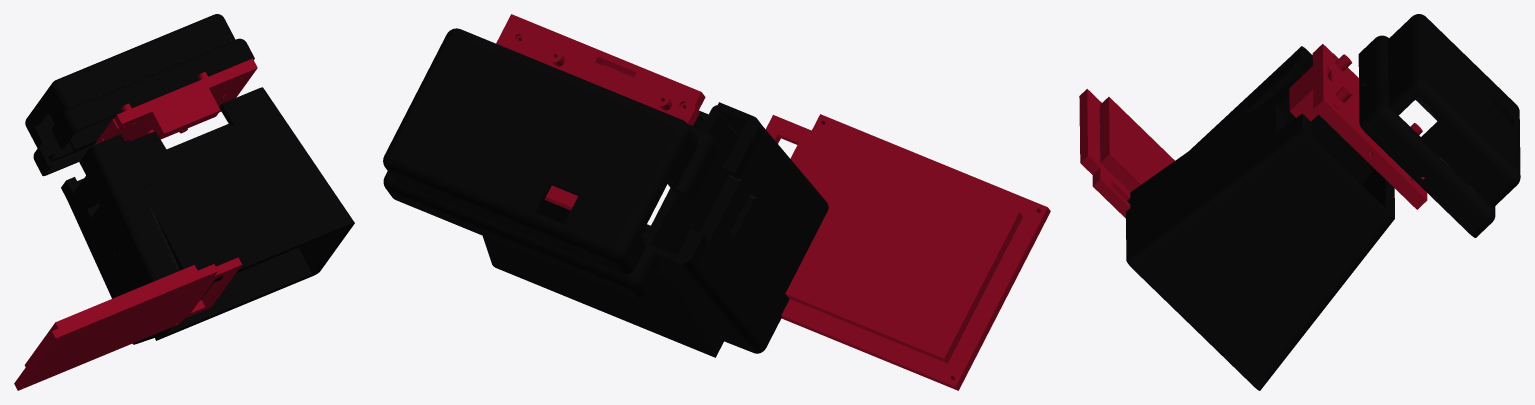
File: Grain-detector-assembly-view2.glb
3 renders of one model, left to right at view 1: azimuth 30°, elevation 25°; view 2: azimuth 150°, elevation 25°; view 3: azimuth 270°, elevation 25°, orthographic. The views are drawn at different scales.
Visible parts, largest first — view 1: node_id3, node_id41, node_id64, node_id48; view 2: node_id41, node_id64, node_id3, node_id48; view 3: node_id3, node_id41, node_id64, node_id48.
Part boxes in pixels (left/top/right/bottom): node_id3: left=61, top=87, right=354, bottom=344; node_id41: left=25, top=14, right=254, bottom=176; node_id64: left=14, top=257, right=241, bottom=390; node_id48: left=94, top=58, right=257, bottom=145; node_id41: left=383, top=28, right=719, bottom=297; node_id64: left=765, top=114, right=1050, bottom=390; node_id3: left=482, top=102, right=828, bottom=357; node_id48: left=496, top=14, right=705, bottom=210; node_id3: left=1126, top=46, right=1394, bottom=390; node_id41: left=1358, top=14, right=1520, bottom=237; node_id64: left=1079, top=89, right=1174, bottom=218; node_id48: left=1289, top=44, right=1427, bottom=209.
Size of the model in its own units: 0.8849 by 0.6363 by 0.7879.
Materials: 4 (4 with a texture image).
